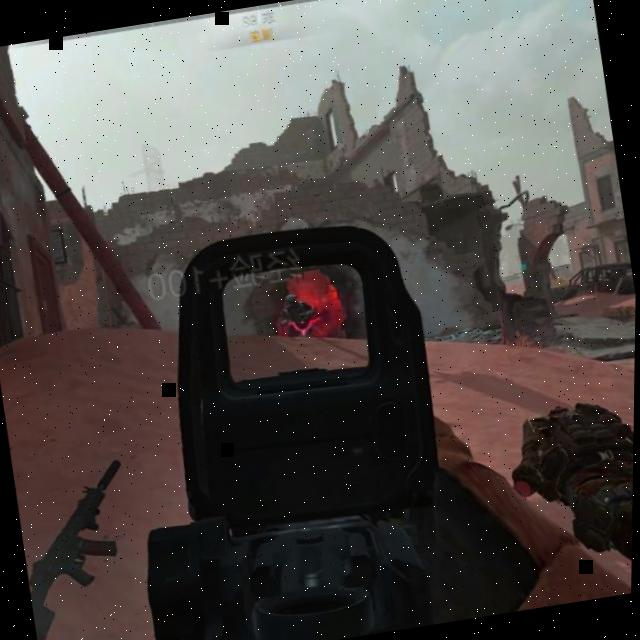MW2_body: (277, 292, 321, 343)
